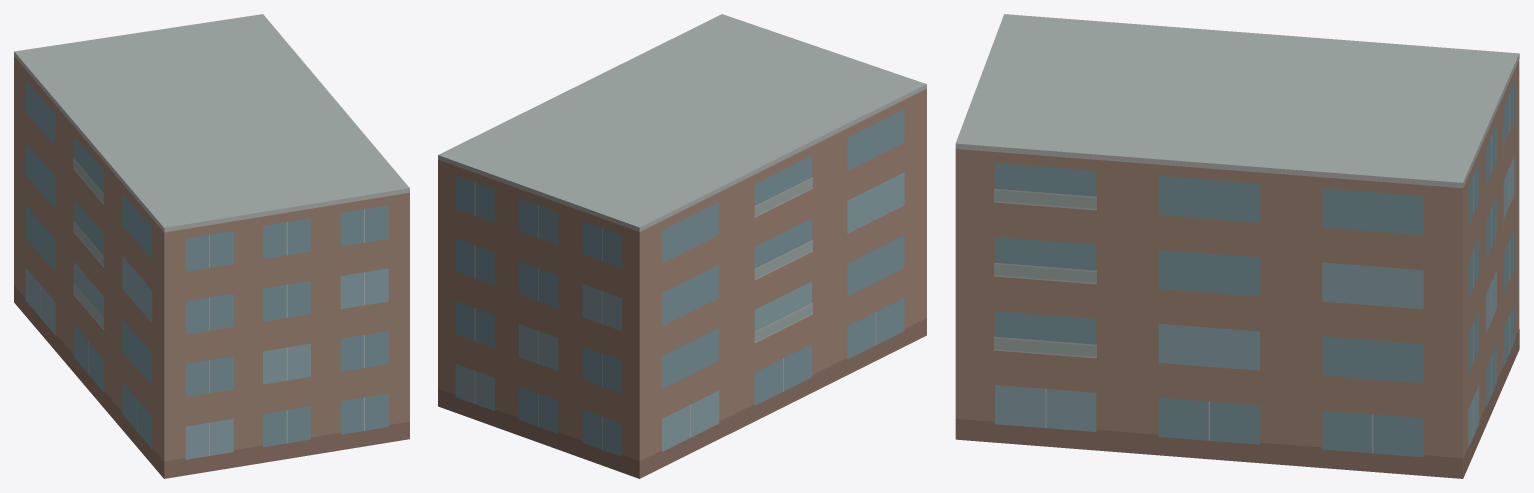
The model's file is survey-upis-32671261.glb.
The picture shows the model from 3 angles, left to right: view 1: azimuth 30°, elevation 25°; view 2: azimuth 150°, elevation 25°; view 3: azimuth 270°, elevation 25°; orthographic projection. The views are drawn at different scales.
Parts seen in each view (by area): view 1: survey-upis-32671261.tmp; view 2: survey-upis-32671261.tmp; view 3: survey-upis-32671261.tmp.
Boxes of the visible parts, box(x1,y1,x2,y2) form: survey-upis-32671261.tmp: box(14, 14, 409, 478); survey-upis-32671261.tmp: box(438, 14, 926, 478); survey-upis-32671261.tmp: box(955, 14, 1519, 478).
Bounding box in the file's own units: 16.53 × 13.5 × 23.32.
